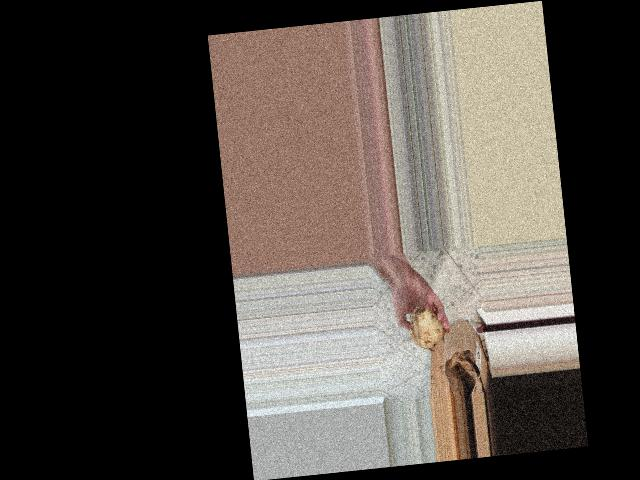onion: (404, 302, 447, 354)
